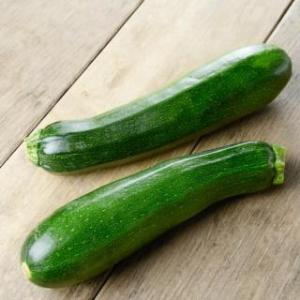zucchini: (27, 154, 299, 284)
